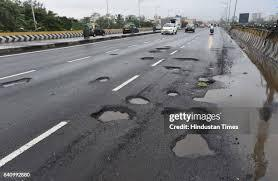D10: (0, 75, 35, 91), (86, 74, 119, 87)
D20: (64, 132, 86, 156), (39, 154, 63, 171), (190, 152, 214, 166)
D40: (89, 104, 138, 123), (248, 131, 270, 171), (107, 51, 130, 65), (126, 93, 150, 104), (101, 152, 115, 165), (228, 135, 242, 147), (163, 87, 181, 96), (94, 75, 110, 82)
